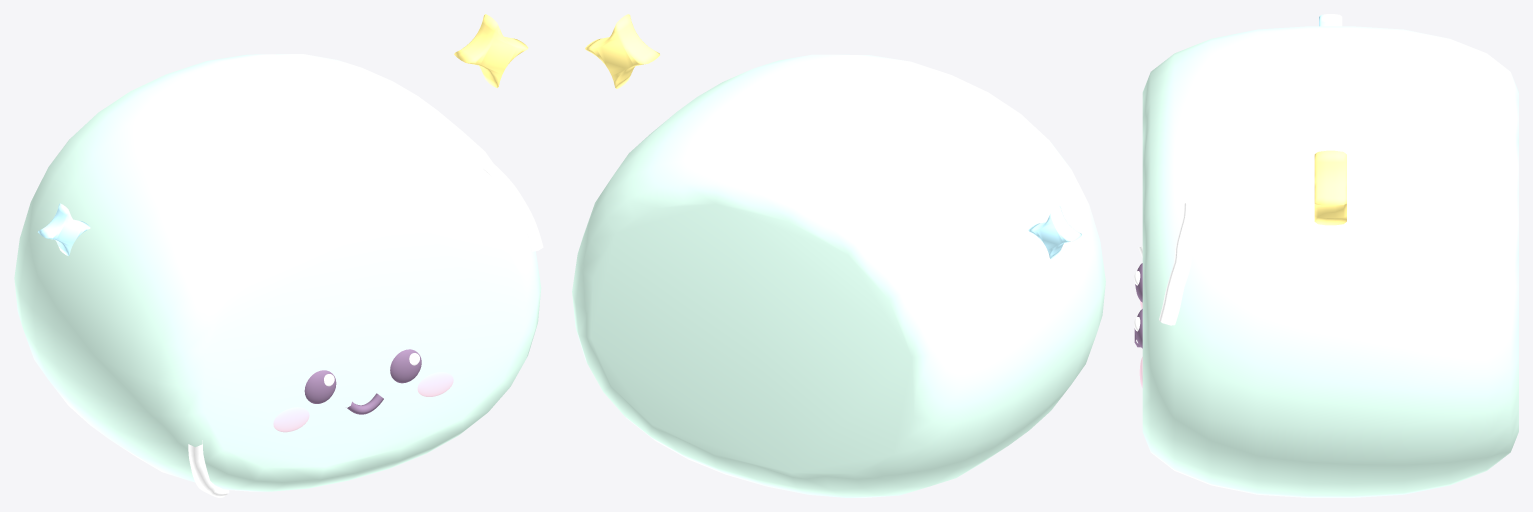
Rendered from squishy_prismmochi.glb.
The picture shows the model from 3 angles, left to right: view 1: azimuth 30°, elevation 25°; view 2: azimuth 150°, elevation 25°; view 3: azimuth 270°, elevation 25°; orthographic projection. The views are drawn at different scales.
Visible parts, largest first — view 1: prismmochi; view 2: prismmochi; view 3: prismmochi.
Boxes of the visible parts, bbox=[...] form: prismmochi: bbox=[14, 14, 543, 497]; prismmochi: bbox=[572, 14, 1105, 497]; prismmochi: bbox=[1134, 14, 1518, 497].
Size of the model in its own units: 1.32 by 1 by 0.8299.
